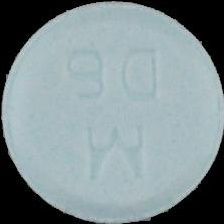68788-9291: (0, 0, 224, 224)
